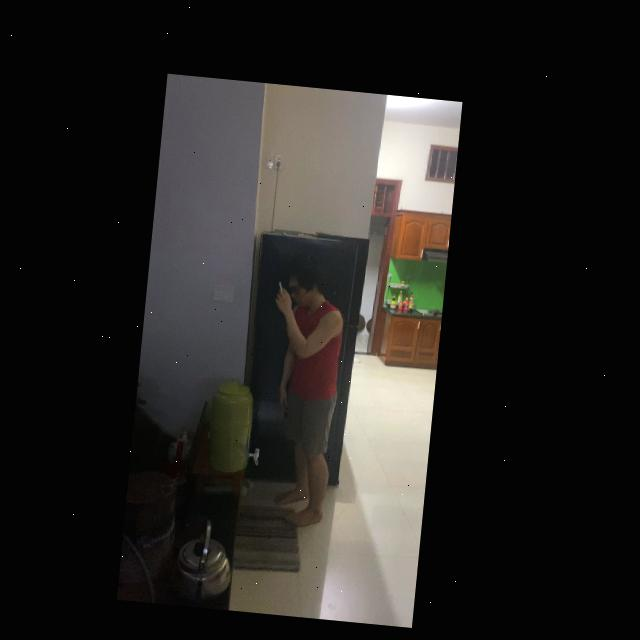cigarette: (283, 275, 288, 285)
